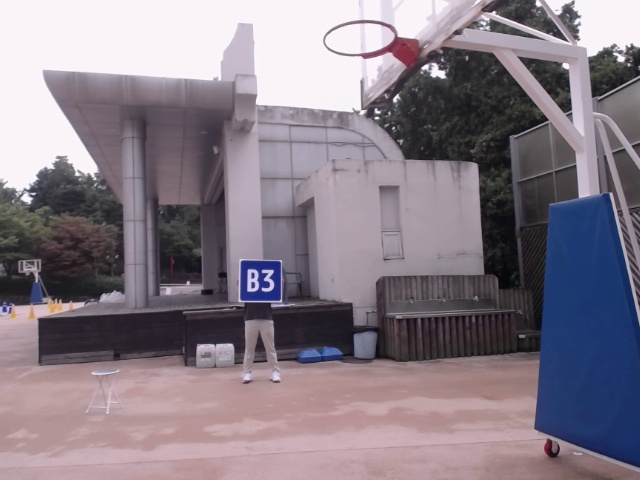delivery_b3: (238, 258, 284, 302)
